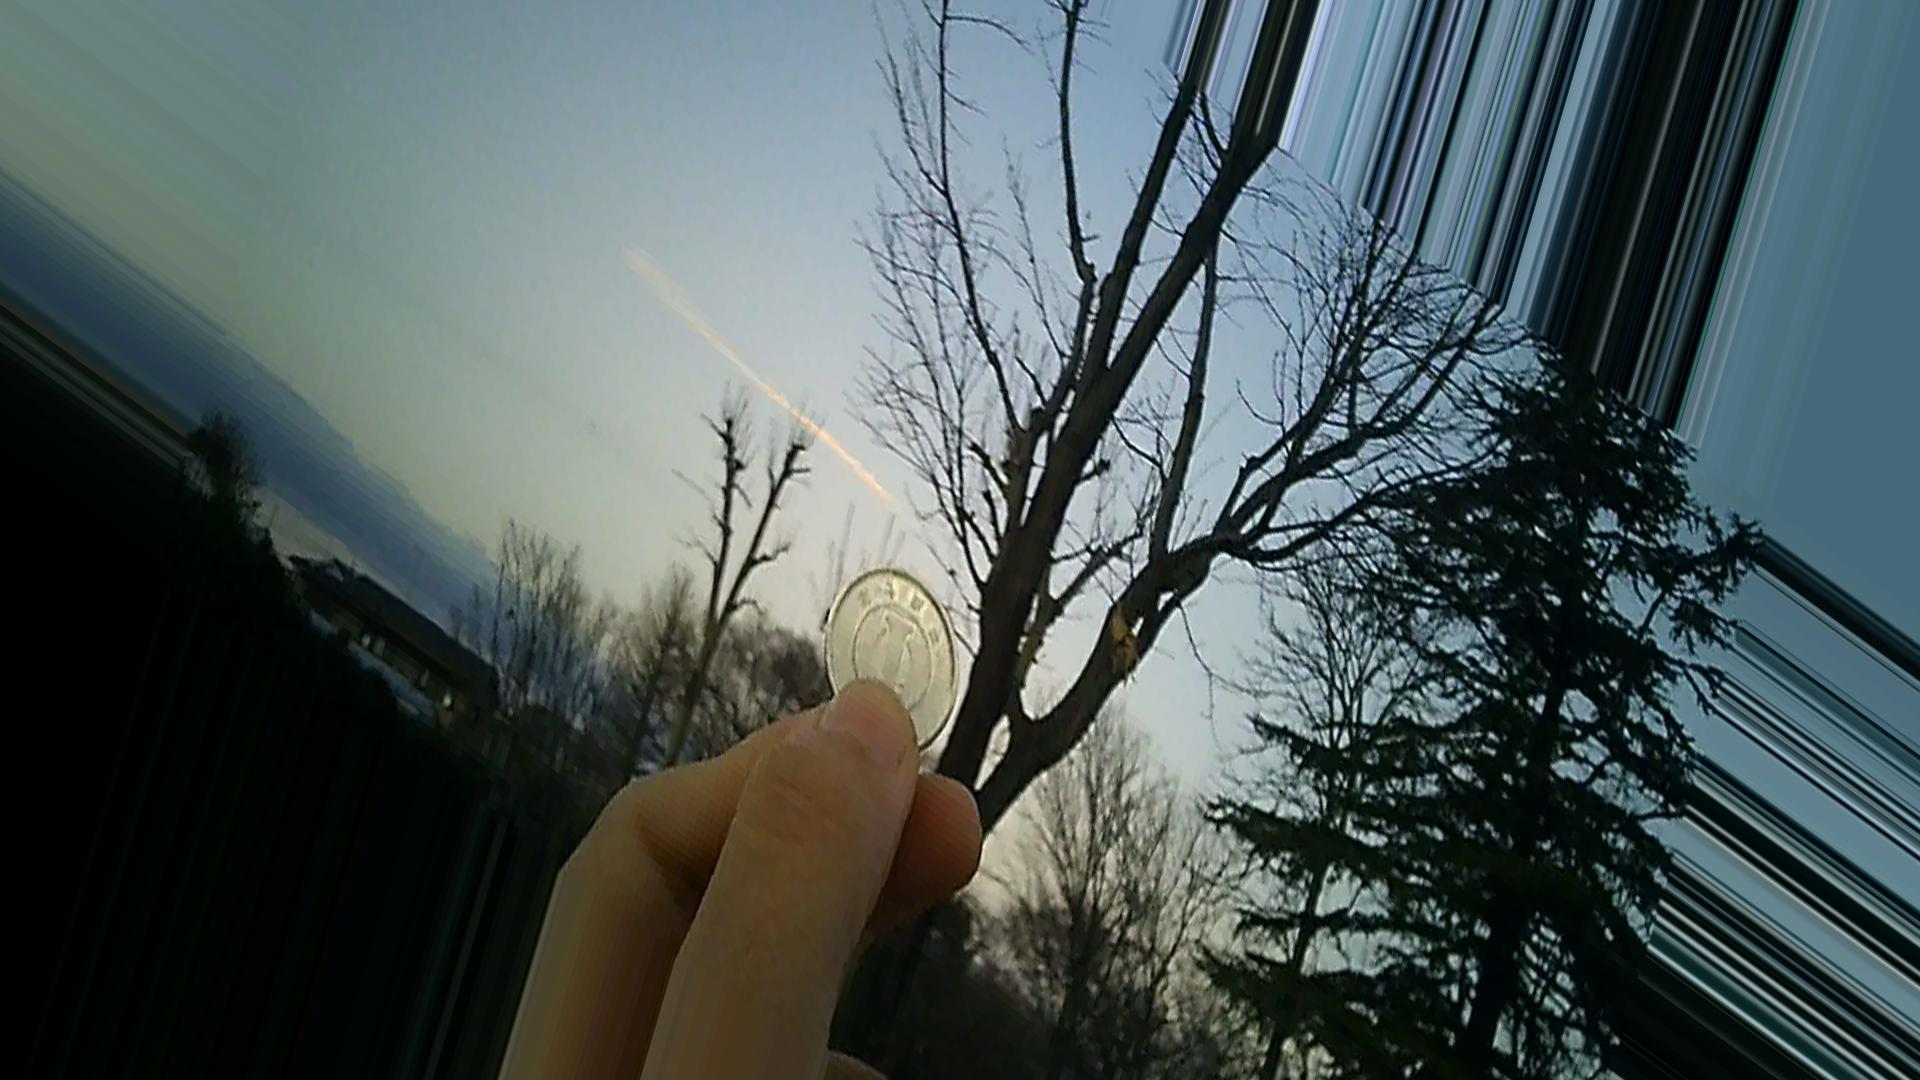1 Yen: (823, 568, 955, 764)
